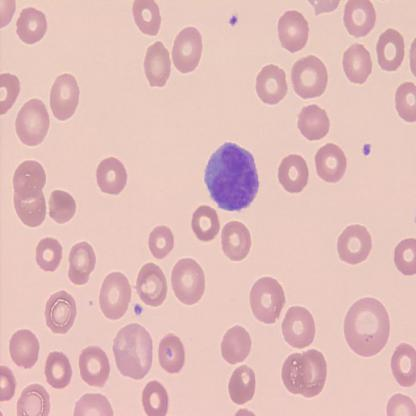Monocyte: (202, 140, 260, 213)
